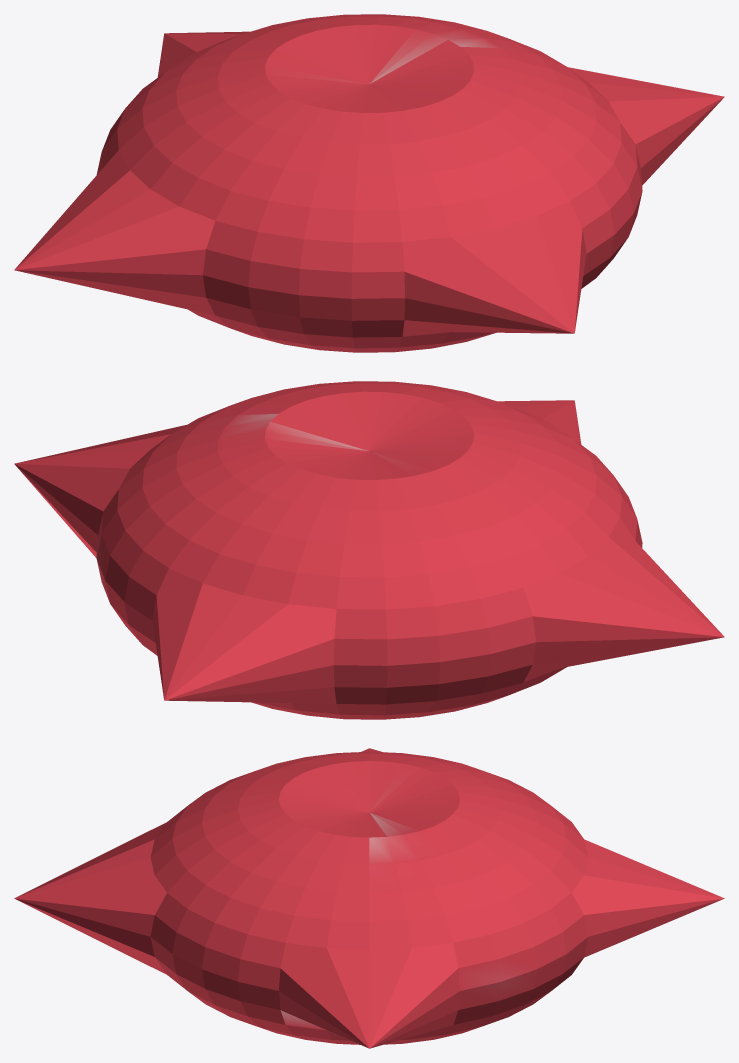
File: Beyblade.fbx
3 renders of one model, top to bottom at view 1: azimuth 30°, elevation 25°; view 2: azimuth 150°, elevation 25°; view 3: azimuth 270°, elevation 25°, orthographic. The views are drawn at different scales.
Visible parts, largest first — view 1: Sphere; view 2: Sphere; view 3: Sphere.
Part boxes in pixels (x1,y1,x2,y2): Sphere: [14, 14, 724, 352]; Sphere: [14, 381, 724, 719]; Sphere: [14, 748, 724, 1048].
Bounding box in the file's own units: 3 × 0.9239 × 3.
